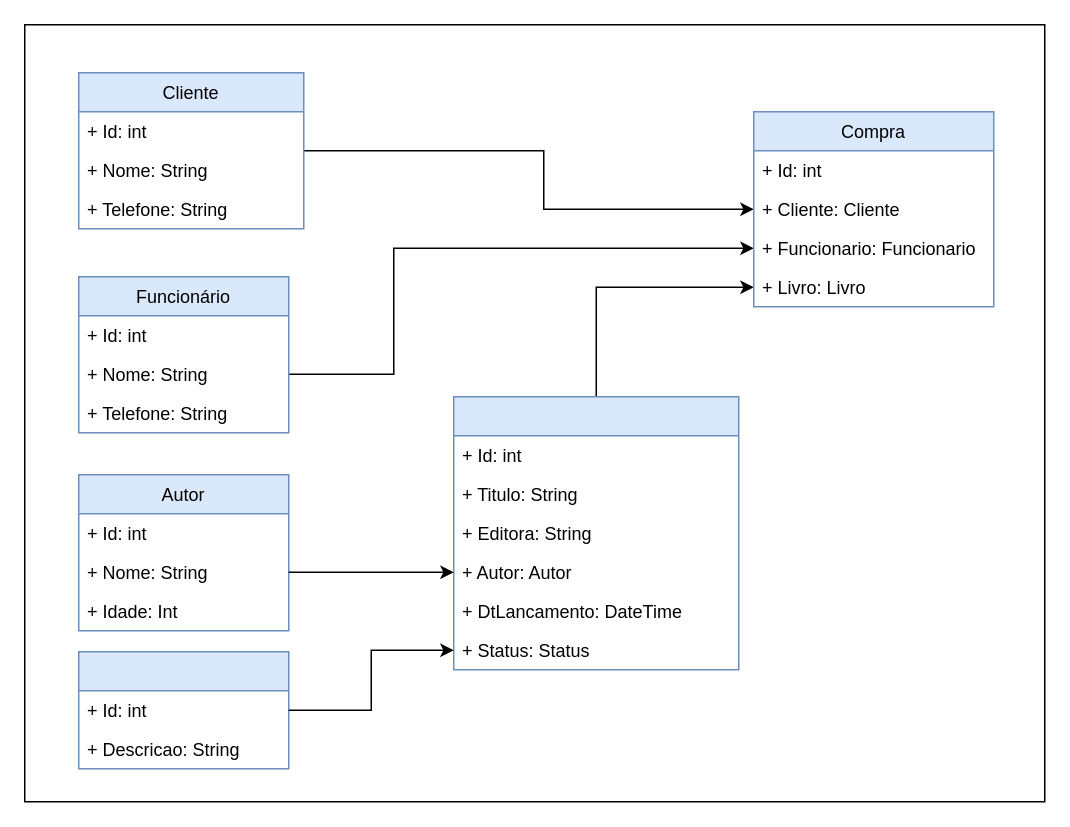
Image size: 1070x827. Some labels were removed from this diagram. Here are the shapes that lost their labels. From the top down, the box of each, then its label:
(452, 395, 739, 670): Livro
(77, 650, 289, 769): Status
